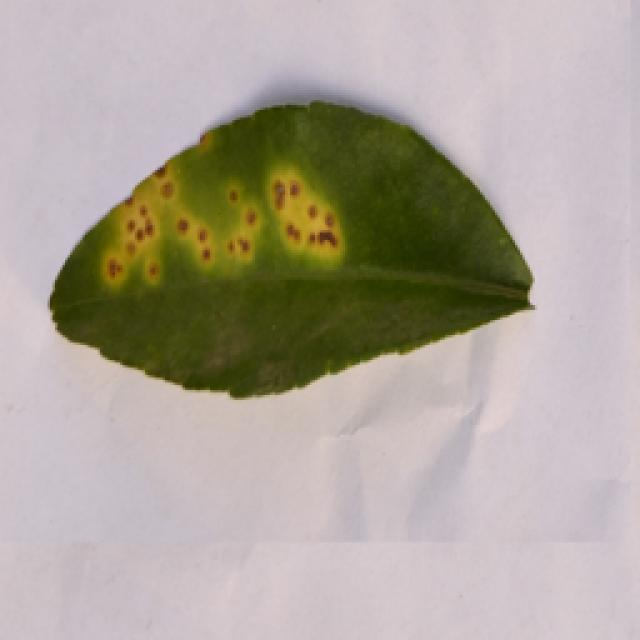canker: (60, 108, 398, 407)
